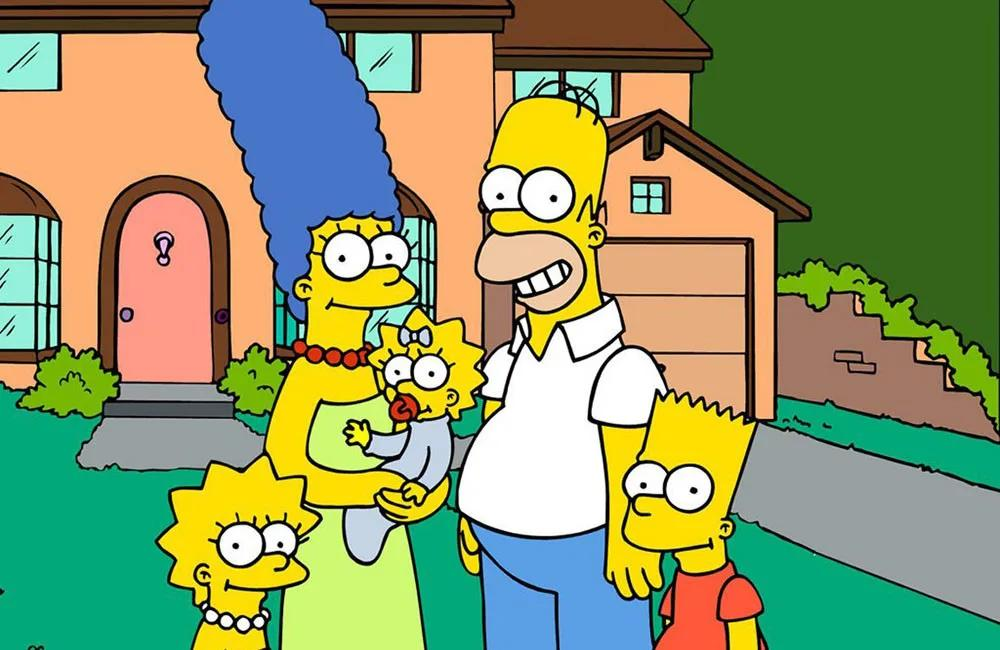Bart: (614, 377, 803, 650)
Homer: (429, 66, 670, 650)
Lisa: (147, 447, 337, 650)
Maggie: (353, 298, 497, 552)
Marge: (175, 0, 465, 650)
